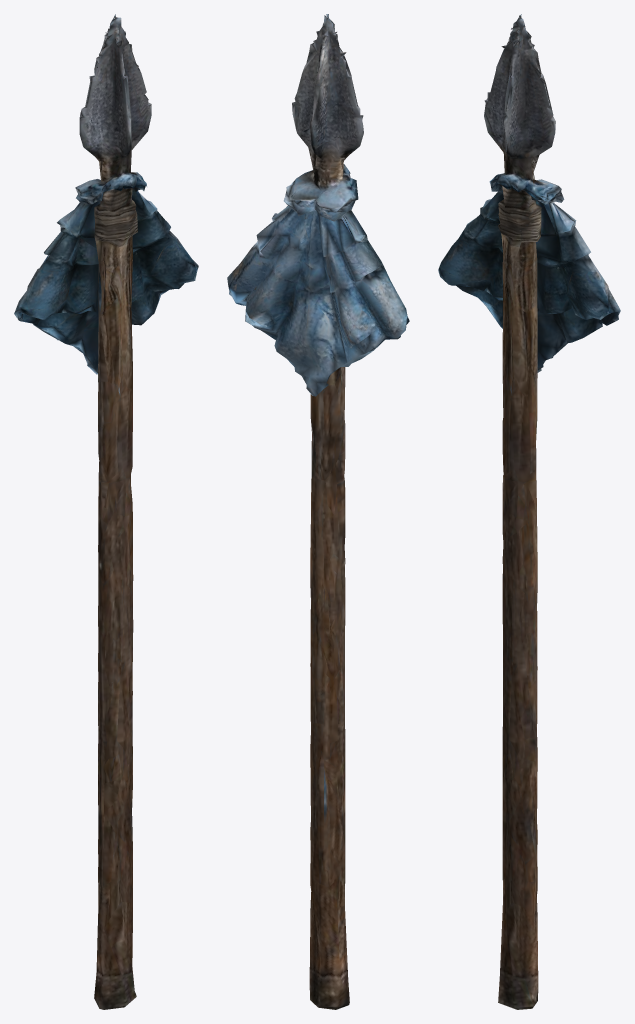
The model's file is spear.glb.
3 renders of one model, left to right at view 1: azimuth 30°, elevation 25°; view 2: azimuth 150°, elevation 25°; view 3: azimuth 330°, elevation 25°, orthographic.
Parts seen in each view (by area): view 1: tripo_node_f8933b52-96c5-455d-8fc4-7a634ccfd2e8; view 2: tripo_node_f8933b52-96c5-455d-8fc4-7a634ccfd2e8; view 3: tripo_node_f8933b52-96c5-455d-8fc4-7a634ccfd2e8.
Boxes of the visible parts, left/top/right/bottom form: tripo_node_f8933b52-96c5-455d-8fc4-7a634ccfd2e8: left=14, top=14, right=198, bottom=1009; tripo_node_f8933b52-96c5-455d-8fc4-7a634ccfd2e8: left=227, top=14, right=409, bottom=1009; tripo_node_f8933b52-96c5-455d-8fc4-7a634ccfd2e8: left=438, top=14, right=620, bottom=1009.
Bounding box in the file's own units: 0.1882 × 0.9791 × 0.0718.
Materials: 1 (1 with a texture image).
